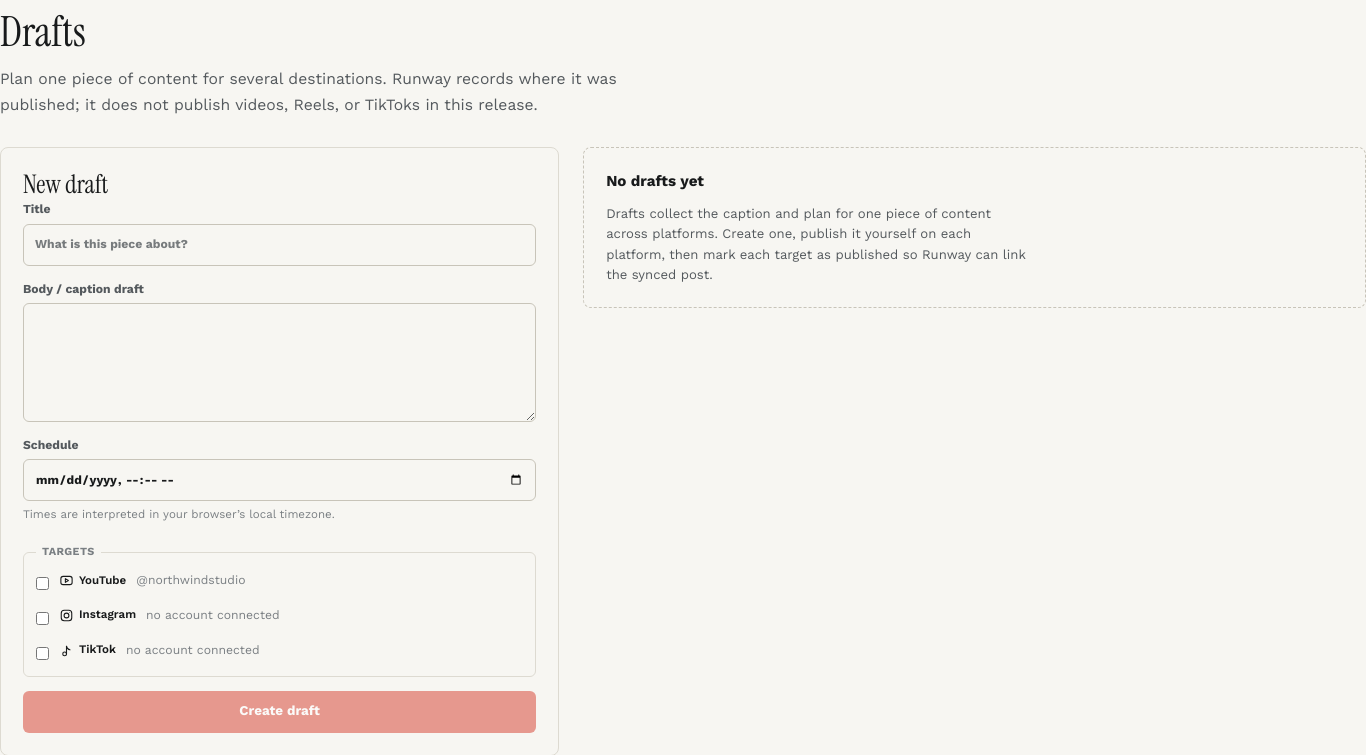
Test: DraftsWorkspace › creates a draft with platform targets and account binding
The image size is (1366, 755).
Type "Behind the scenes" into the field labelled "Title" at (280, 244), box [23,224,536,266]
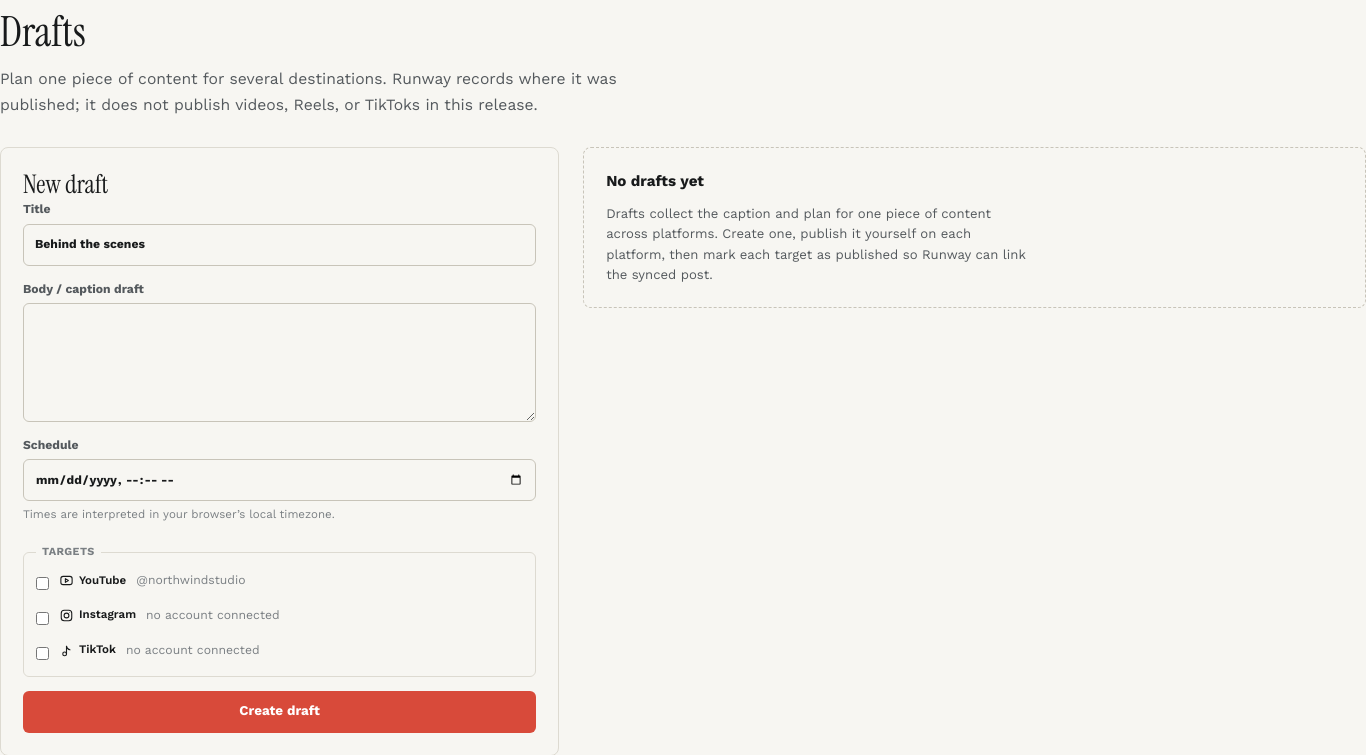
Click the checkbox labelled "YouTube @northwindstudio" at (42, 583), box [36,577,49,590]
(page scrolled)
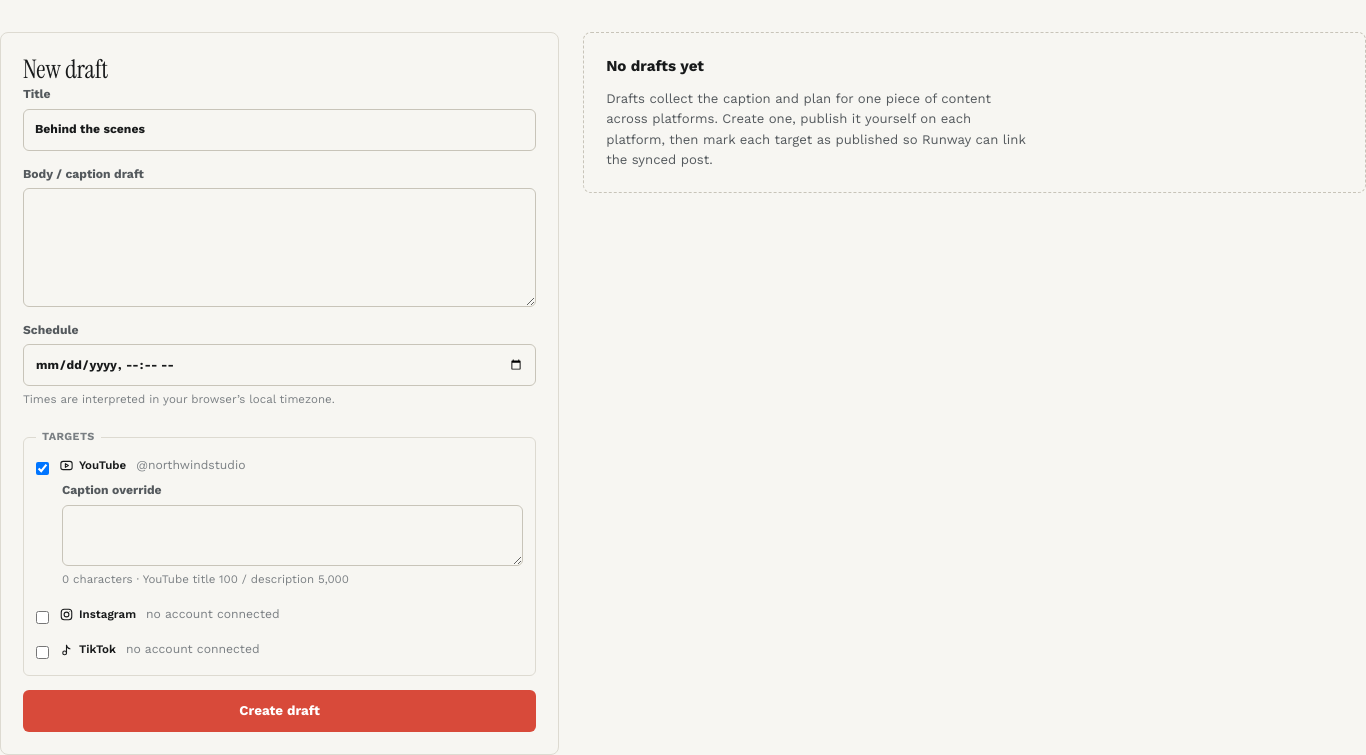
Click the button "Create draft" at (280, 711), box [23,690,536,732]
(page scrolled)
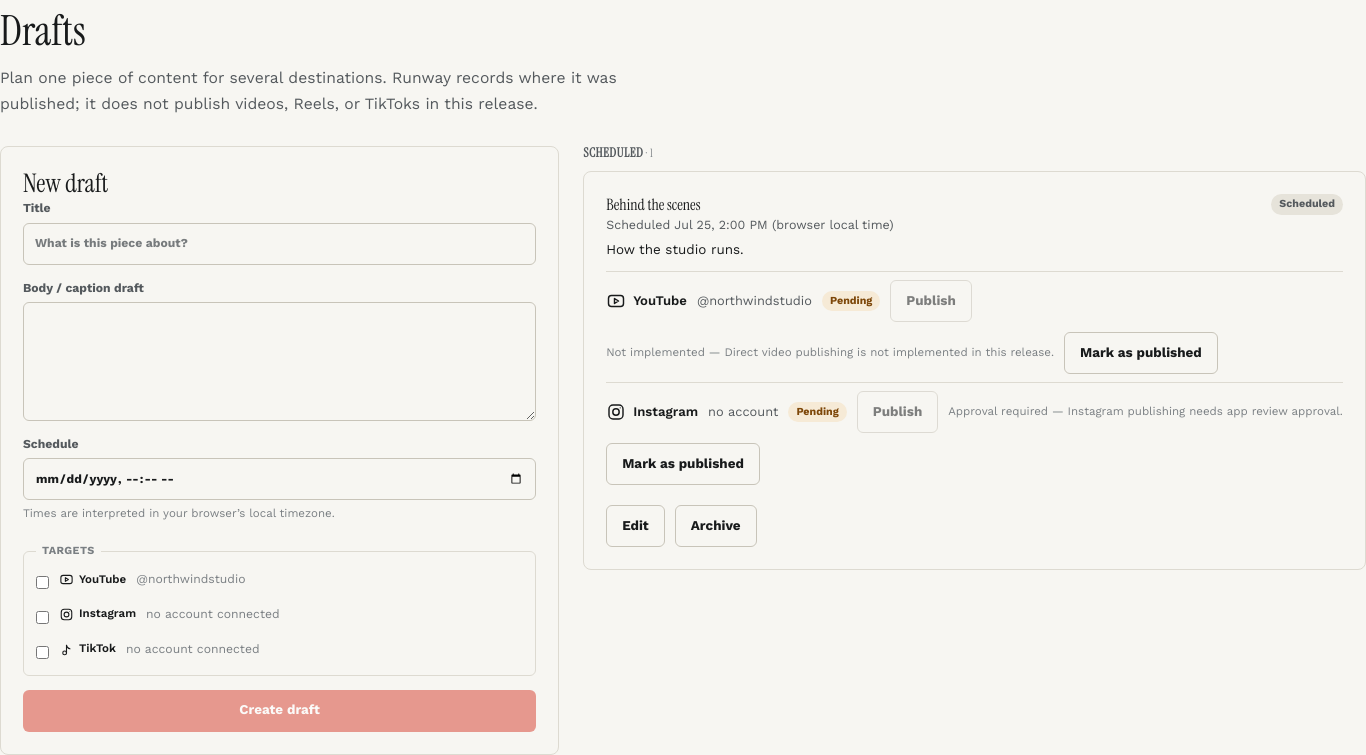
Result: the heading "Behind the scenes" is shown at [606,195,701,215]
